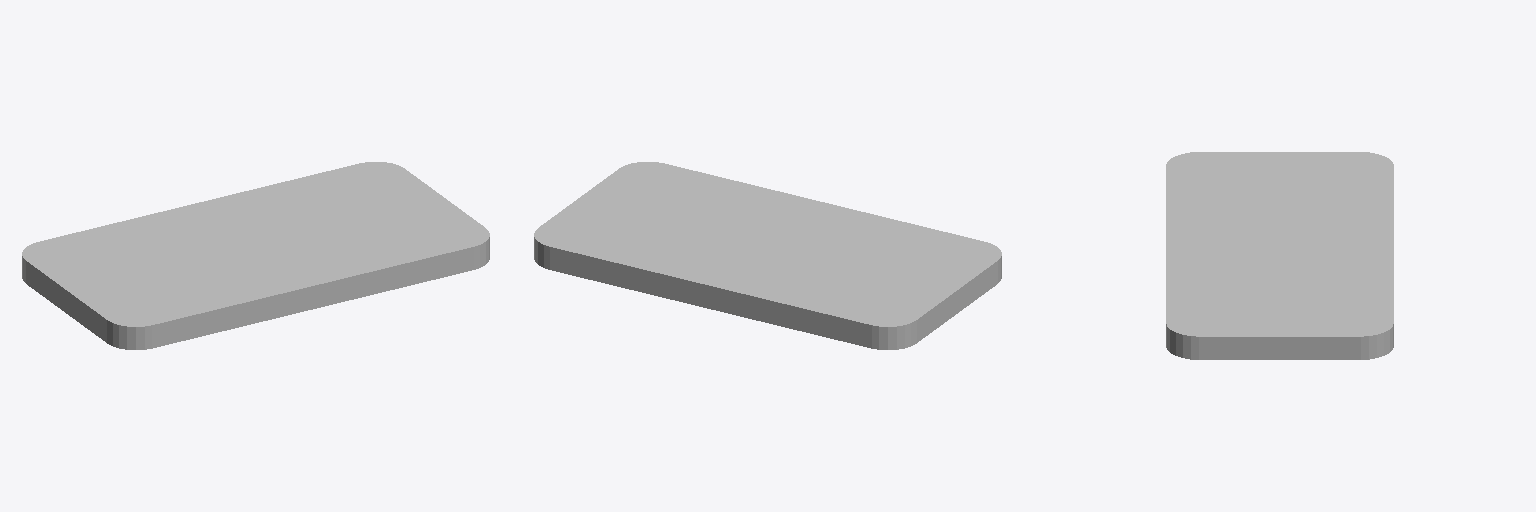
The model's file is original-49.obj.
3 renders of one model, left to right at view 1: azimuth 30°, elevation 25°; view 2: azimuth 150°, elevation 25°; view 3: azimuth 270°, elevation 25°, orthographic.
Parts seen in each view (by area): view 1: mesh48/mesh48-geometry#mesh48-geometry; view 2: mesh48/mesh48-geometry#mesh48-geometry; view 3: mesh48/mesh48-geometry#mesh48-geometry.
Part boxes in pixels (x1,y1,x2,y2): mesh48/mesh48-geometry#mesh48-geometry: (22,162,489,349); mesh48/mesh48-geometry#mesh48-geometry: (534,162,1001,349); mesh48/mesh48-geometry#mesh48-geometry: (1166,152,1393,359).
Bounding box in the file's own units: 0.1087 × 0.0064 × 0.0568.